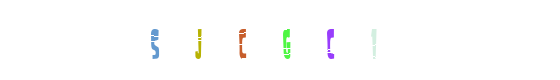1: (290, 0, 370, 80)
C: (201, 0, 281, 80), (246, 0, 326, 80)
G: (240, 0, 320, 80)
J: (183, 0, 263, 80)
S: (115, 0, 195, 80)
